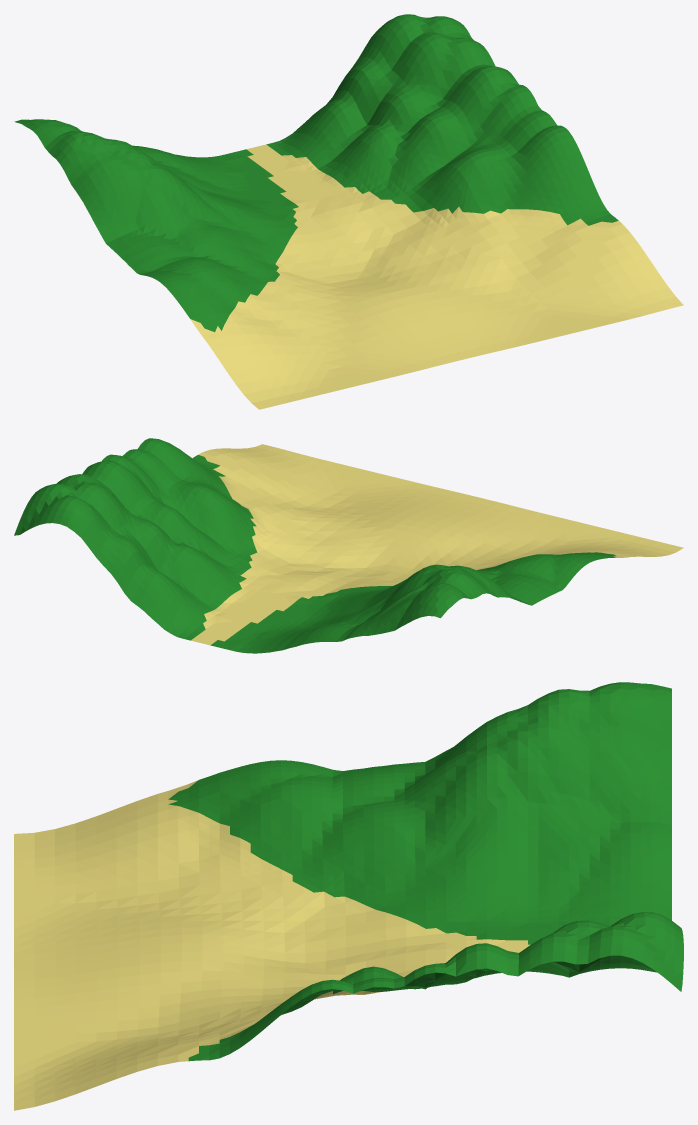
The model's file is beach - StartingPoint.fbx.
3 views of the same model, one above another, from view 1: azimuth 30°, elevation 25°; view 2: azimuth 150°, elevation 25°; view 3: azimuth 270°, elevation 25° (orthographic). The views are drawn at different scales.
Visible parts, largest first — view 1: Plane; view 2: Plane; view 3: Plane.
Boxes of the visible parts, <box> form: Plane: <box>14,14,683,409</box>; Plane: <box>14,438,683,653</box>; Plane: <box>14,682,683,1110</box>.
Size of the model in its own units: 10058 by 2869 by 10183.
